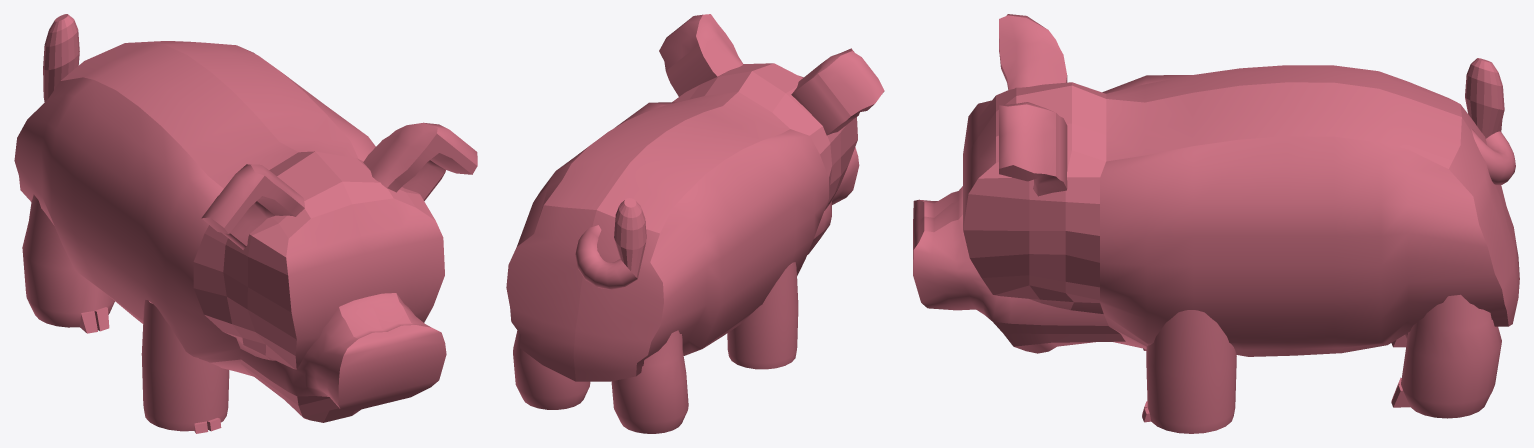
The model's file is hohol.fbx.
3 renders of one model, left to right at view 1: azimuth 30°, elevation 25°; view 2: azimuth 150°, elevation 25°; view 3: azimuth 270°, elevation 25°, orthographic. The views are drawn at different scales.
Parts seen in each view (by area): view 1: hohol; view 2: hohol; view 3: hohol.
Part boxes in pixels (<box>): hohol: <box>14,14,477,433</box>; hohol: <box>506,14,884,433</box>; hohol: <box>913,14,1519,433</box>.
Bounding box in the file's own units: 4.65 × 5.19 × 8.93.
